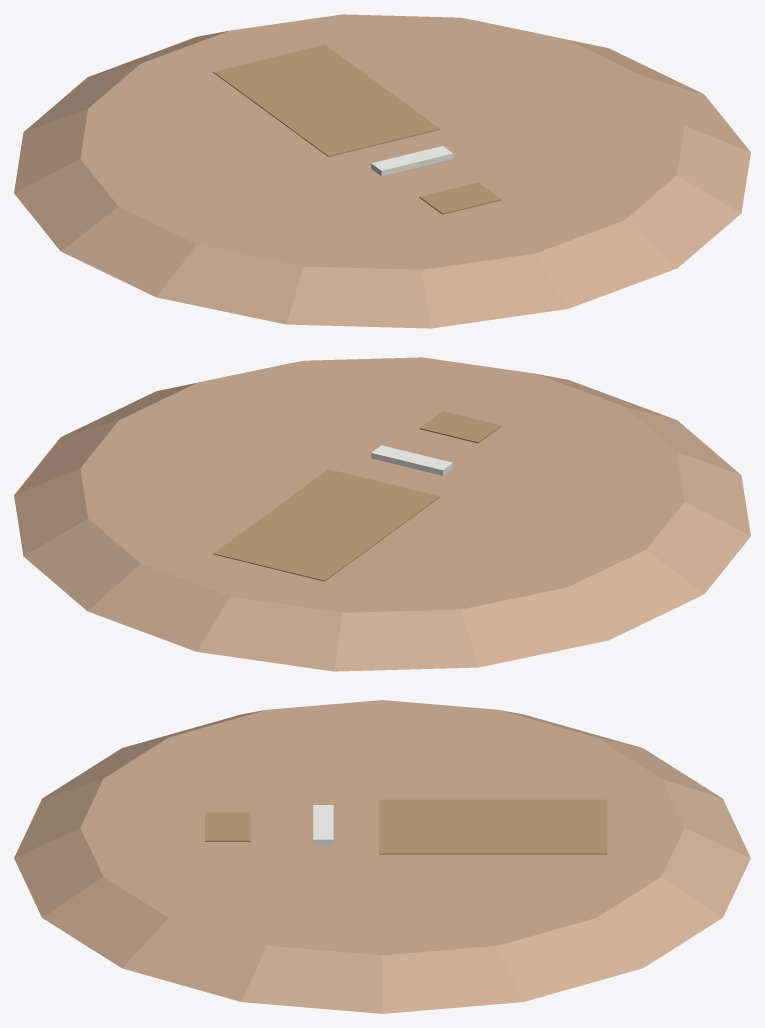
File: baseball-park-and-batting-cages-pitchers-mound-f0a32309__33743.glb
3 views of the same model, one above another, from view 1: azimuth 30°, elevation 25°; view 2: azimuth 150°, elevation 25°; view 3: azimuth 270°, elevation 25° (orthographic).
Visible parts, largest first — view 1: pitchers-mound; view 2: pitchers-mound; view 3: pitchers-mound.
Part boxes in pixels (x1,y1,x2,y2): pitchers-mound: (14,14,750,328); pitchers-mound: (14,357,750,671); pitchers-mound: (14,700,750,1013).
Bounding box in the file's own units: 5.48 × 0.2951 × 5.48.
